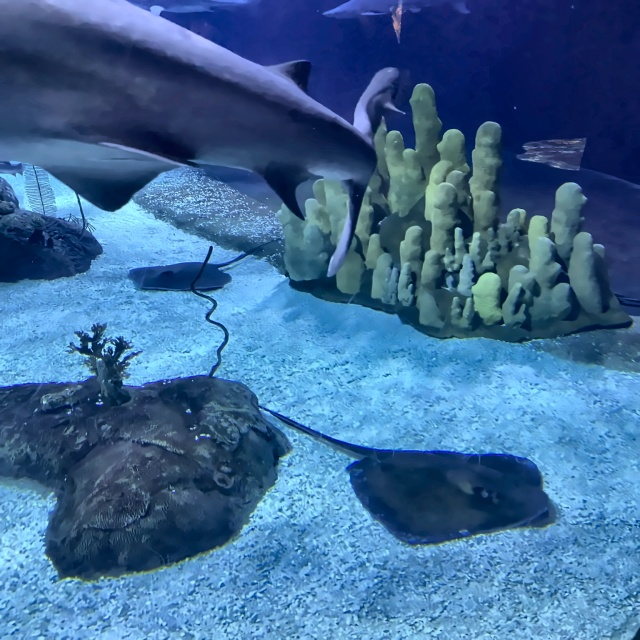shark: (0, 0, 389, 281), (311, 0, 472, 22)
stingray: (347, 440, 559, 552), (116, 261, 234, 298)
